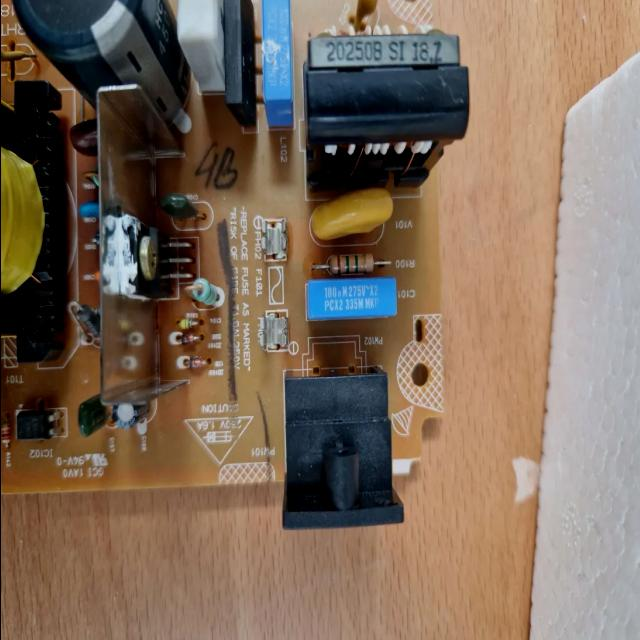C: (12, 0, 190, 119)
D: (310, 252, 390, 274), (160, 193, 200, 224), (354, 0, 378, 31), (0, 413, 12, 448), (182, 357, 209, 368), (178, 332, 202, 344), (175, 318, 203, 328)
E: (310, 188, 392, 240)
